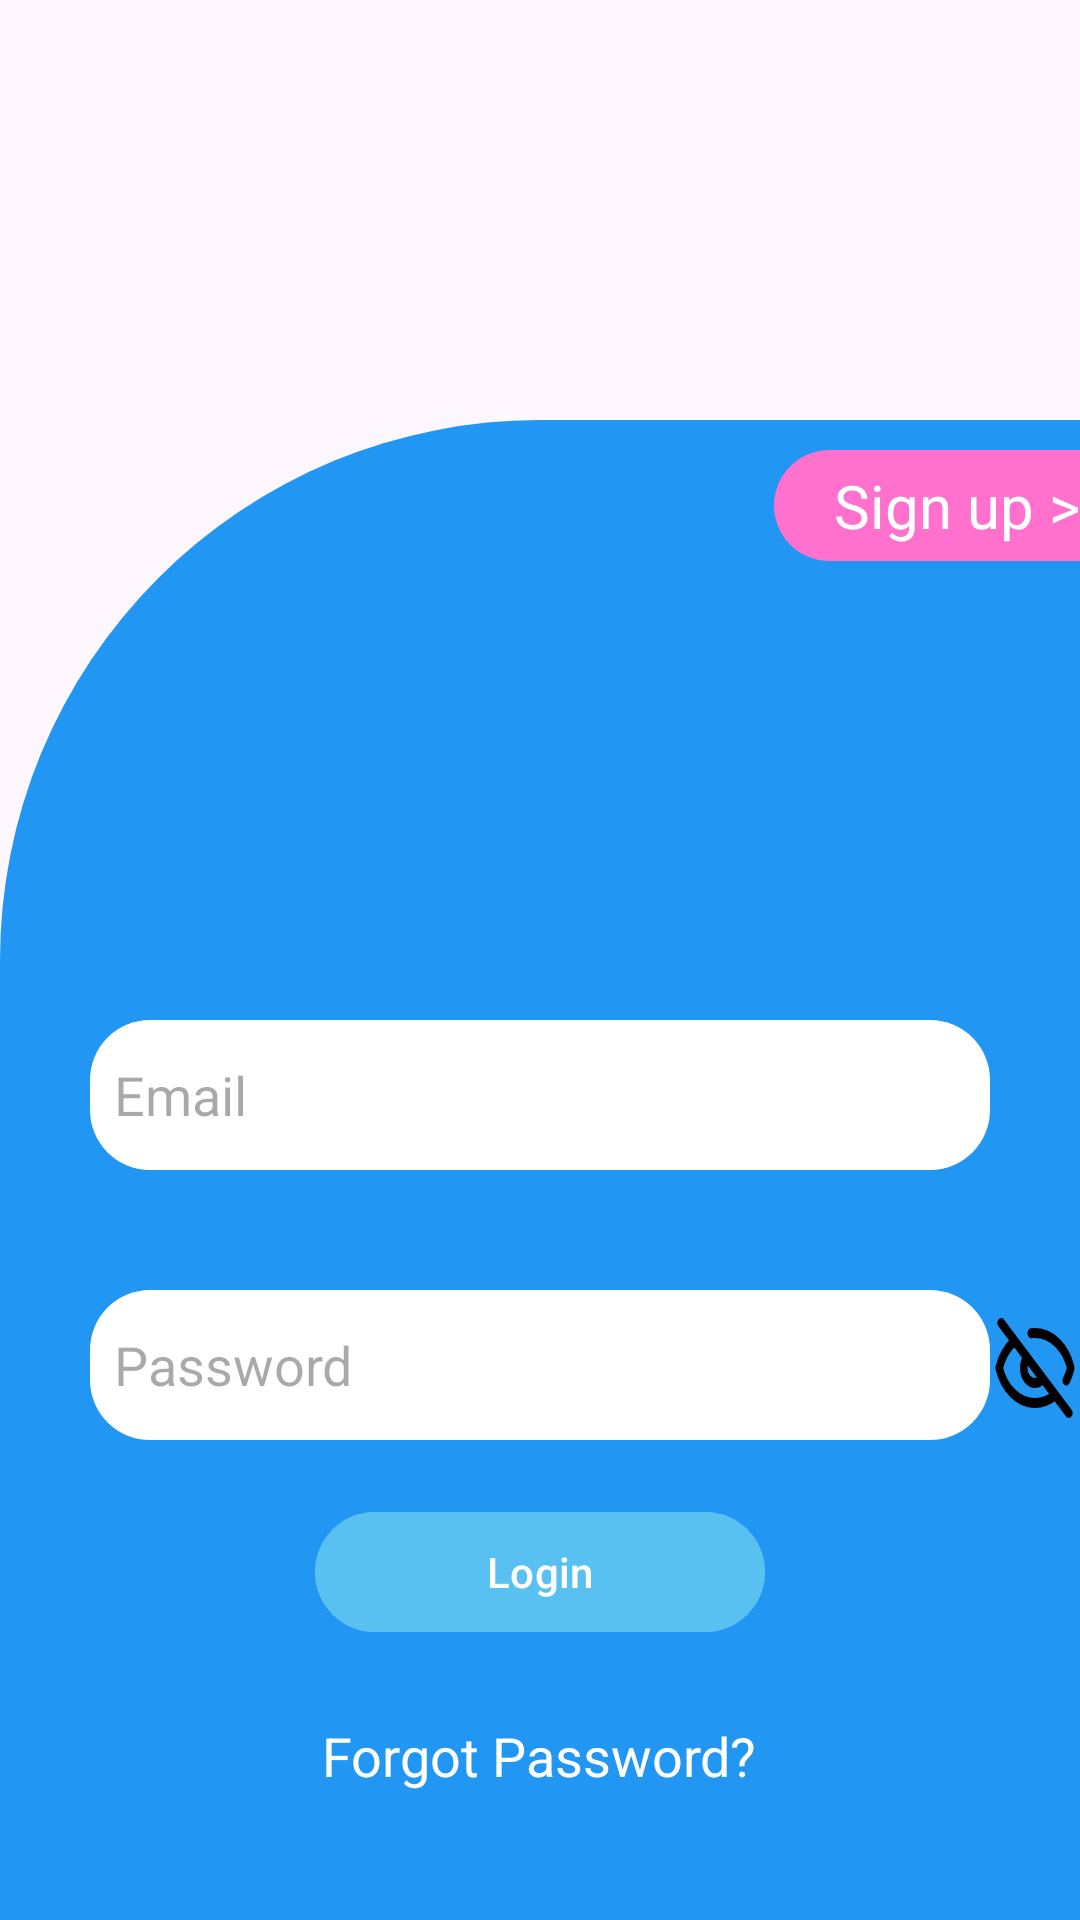

Screen size 1080 × 1920. Icon name, then its center in pixels as (x=x, y=y):
eye slash: (x=1035, y=1368)
